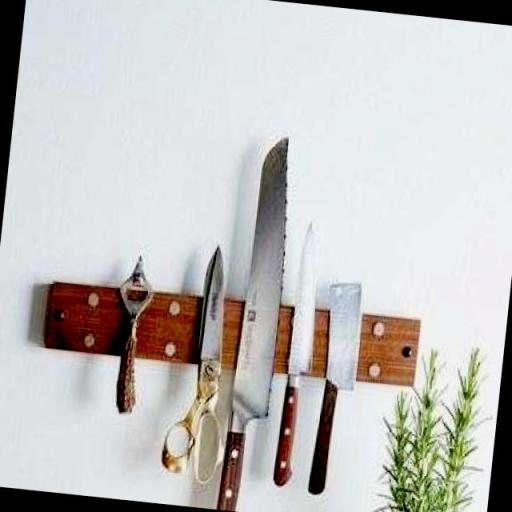knife: (264, 213, 330, 501)
